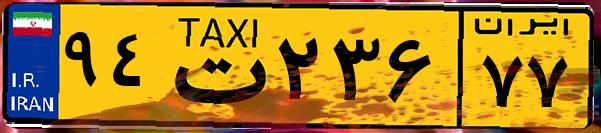2: (270, 28, 330, 110)
3: (330, 28, 385, 110)
4: (110, 28, 158, 98)
6: (385, 28, 445, 110)
7: (475, 38, 525, 113), (525, 38, 570, 115)
9: (57, 26, 110, 100)
ت: (158, 12, 270, 120)
